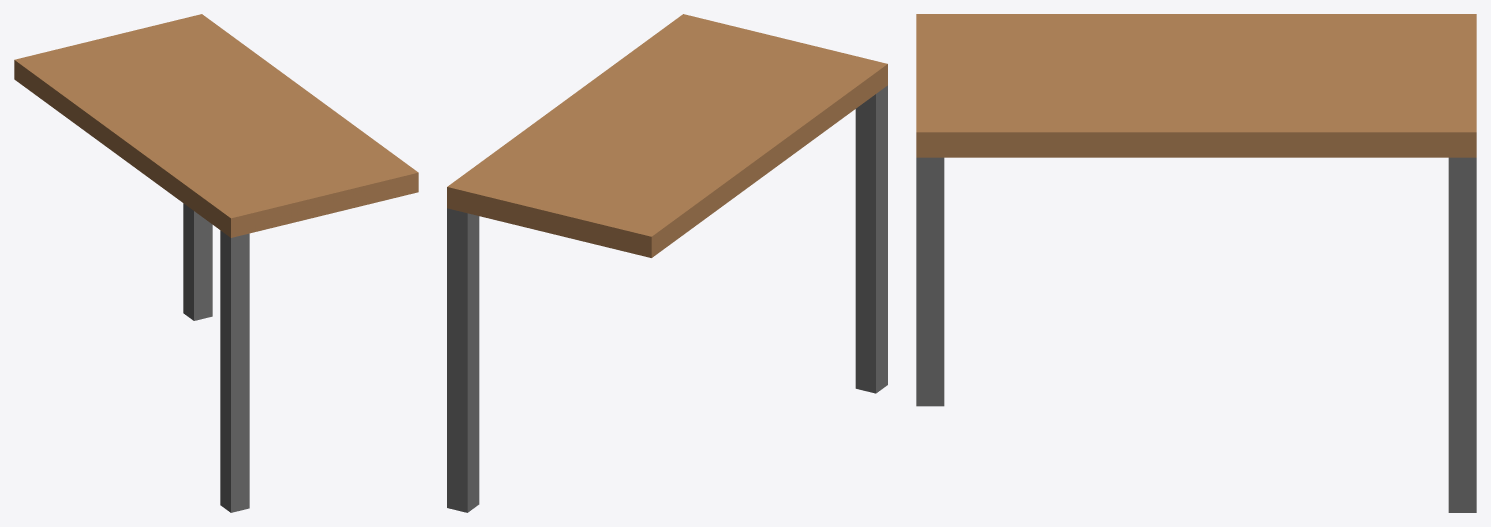
The model's file is table.gltf.
3 views of the same model, side by side, from view 1: azimuth 30°, elevation 25°; view 2: azimuth 150°, elevation 25°; view 3: azimuth 270°, elevation 25° (orthographic). The views are drawn at different scales.
Visible parts, largest first — view 1: Table, Leg A, Leg B; view 2: Table, Leg B, Leg A; view 3: Table, Leg B, Leg A.
Boxes of the visible parts, x1,y1,x2,y2 form: Table: (14, 14, 418, 237); Leg A: (220, 230, 249, 512); Leg B: (183, 203, 212, 320); Table: (447, 14, 887, 257); Leg B: (447, 208, 479, 512); Leg A: (855, 85, 887, 393); Table: (916, 14, 1476, 157); Leg B: (1448, 157, 1476, 512); Leg A: (916, 157, 944, 406).
Size of the model in its own units: 0.5 by 0.75 by 1.
